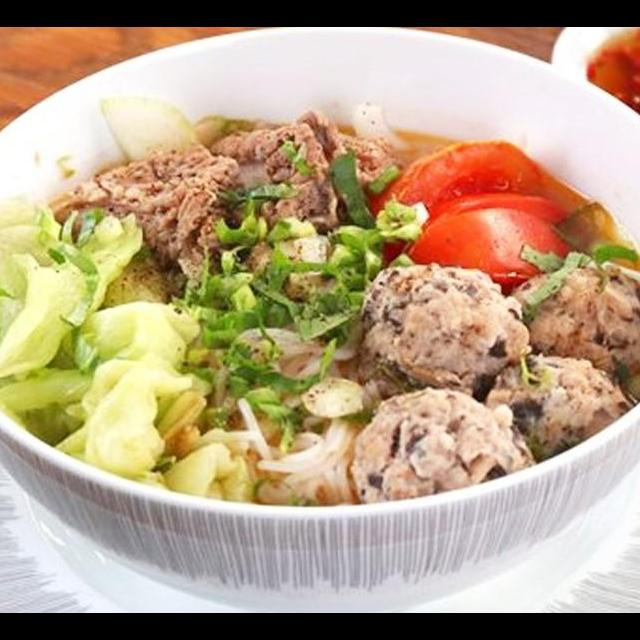bun: (205, 326, 376, 510)
vien moc: (355, 259, 538, 408), (341, 381, 549, 506), (482, 353, 640, 468), (506, 253, 640, 381)
